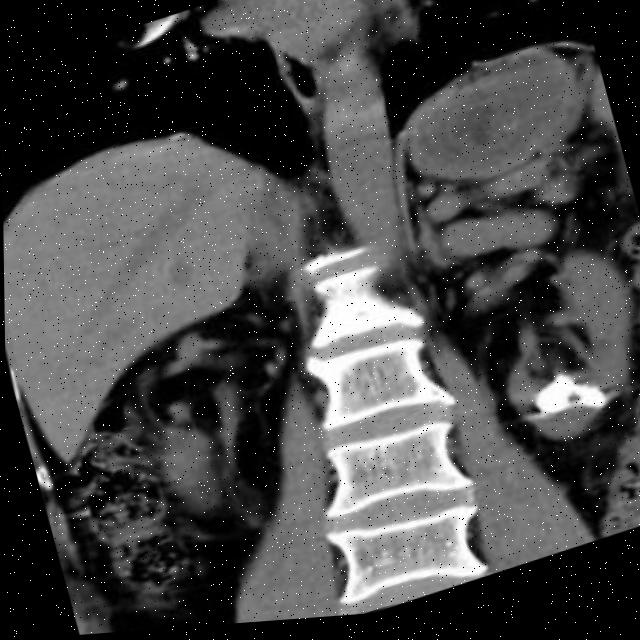Tas_Var: (525, 375, 580, 430), (571, 381, 612, 427)
